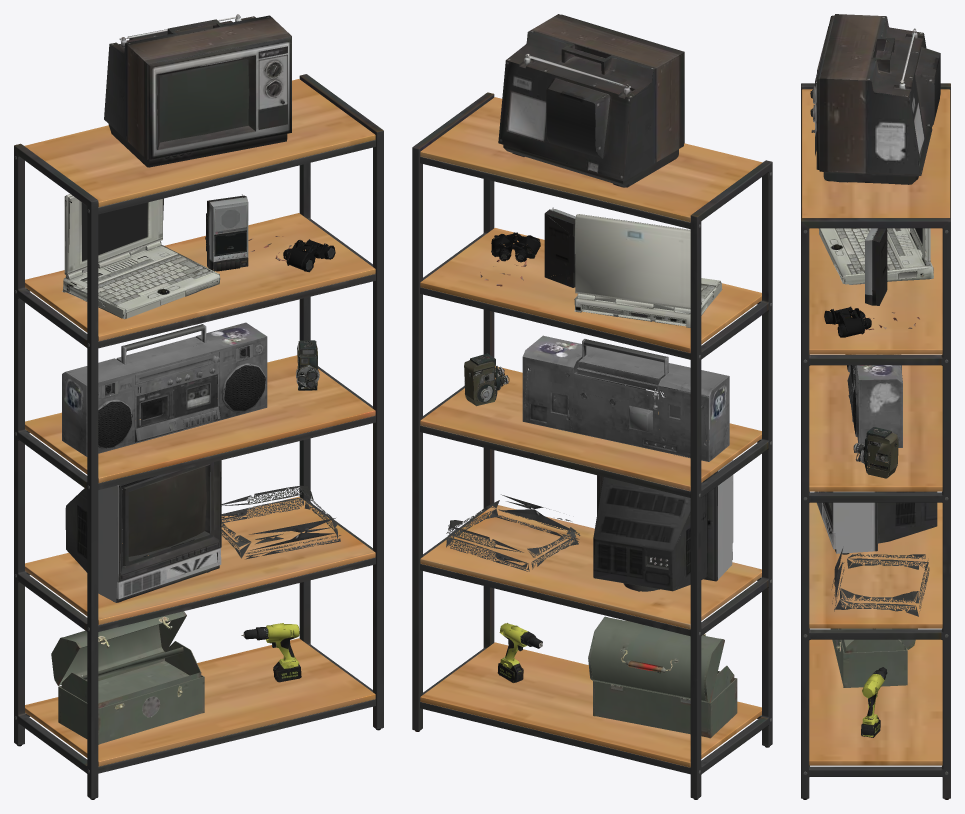
The model's file is shelf_with_goods.glb.
The picture shows the model from 3 angles, left to right: view 1: azimuth 30°, elevation 25°; view 2: azimuth 150°, elevation 25°; view 3: azimuth 270°, elevation 25°; orthographic projection. The views are drawn at different scales.
Parts seen in each view (by area): view 1: shelf_unit, shelf_goods; view 2: shelf_unit, shelf_goods; view 3: shelf_unit, shelf_goods.
Part boxes in pixels (<box>): shelf_unit: <box>14,74,383,799</box>; shelf_goods: <box>51,14,340,744</box>; shelf_unit: <box>412,92,772,799</box>; shelf_goods: <box>446,14,737,738</box>; shelf_unit: <box>801,83,950,799</box>; shelf_goods: <box>810,14,940,737</box>.
Bounding box in the file's own units: 1.03 × 2.36 × 0.469.
Materials: 17 (16 with a texture image).
